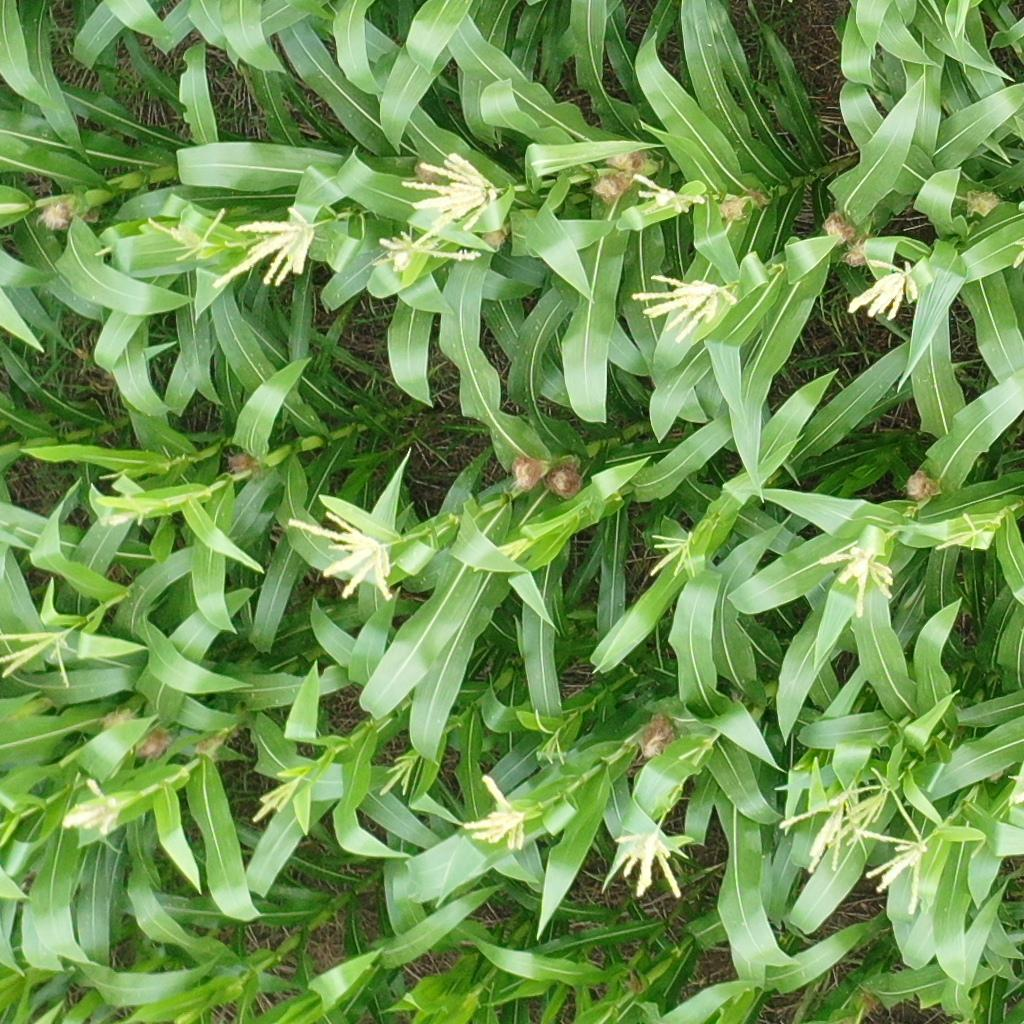Tassel: (282, 510, 400, 606), (208, 207, 322, 294), (627, 270, 740, 346), (401, 153, 499, 233), (855, 828, 938, 920), (780, 794, 868, 879), (830, 784, 931, 851), (818, 541, 899, 619), (615, 827, 690, 905), (1, 624, 82, 692), (465, 770, 531, 853), (378, 226, 485, 275), (848, 259, 919, 321), (147, 207, 225, 262), (59, 777, 122, 835), (632, 172, 705, 214), (646, 529, 700, 581), (253, 775, 301, 827), (931, 512, 988, 554), (104, 496, 161, 531), (380, 756, 419, 800), (538, 728, 568, 766), (495, 533, 531, 564)
